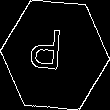P_S: (37, 28, 73, 82)
